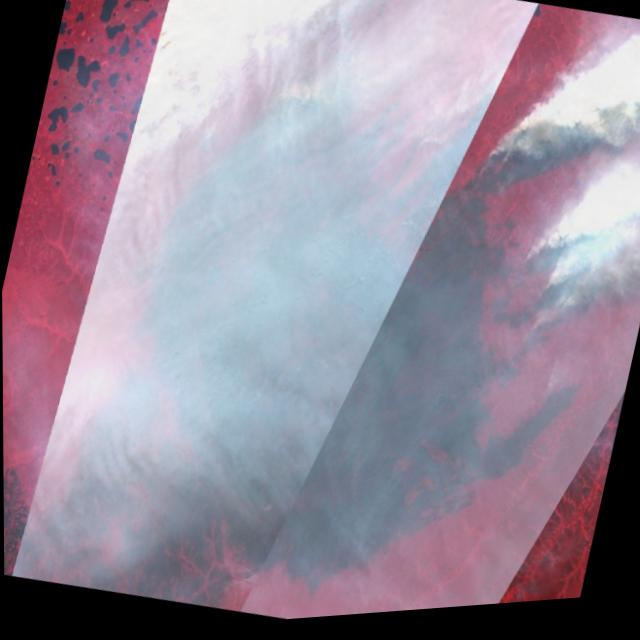fire: (461, 127, 526, 212), (520, 317, 550, 359), (513, 240, 537, 275), (537, 277, 554, 305)
